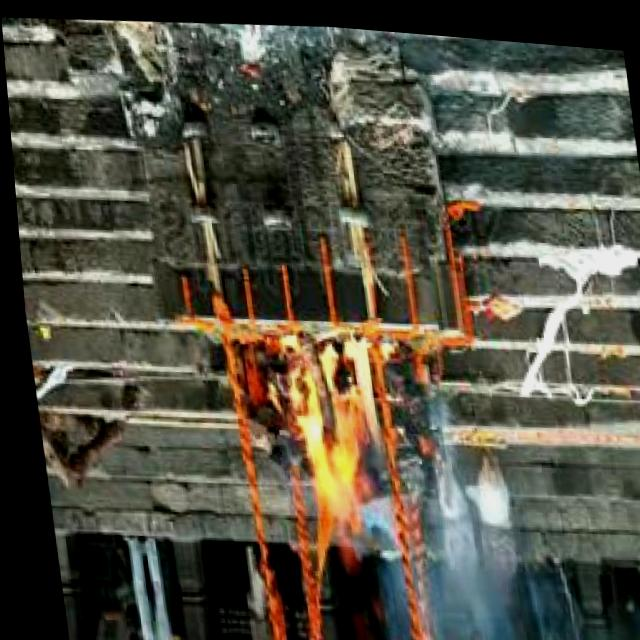helmet: (275, 320, 391, 543)
